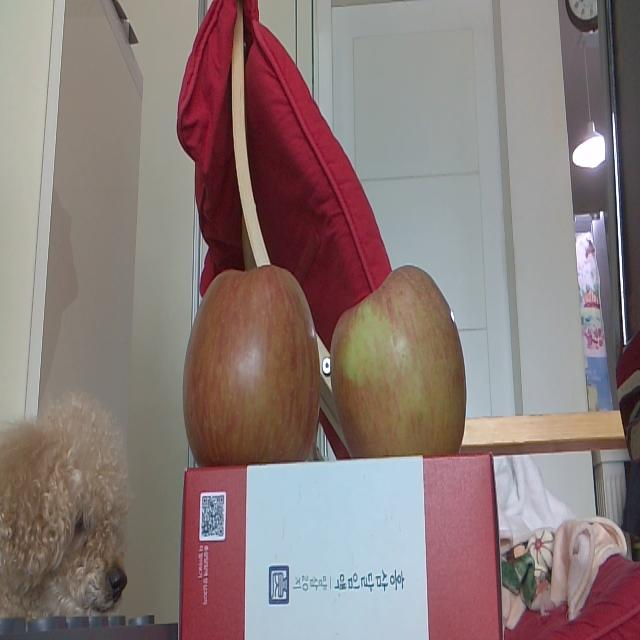apple: (182, 265, 324, 463), (332, 267, 468, 455)
